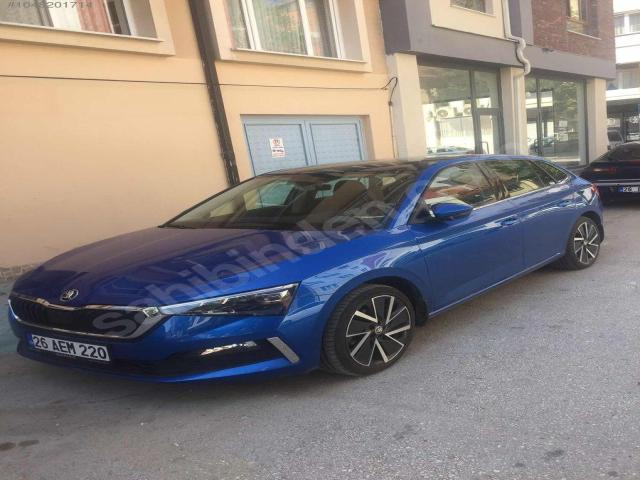plaka: (31, 335, 109, 361)
